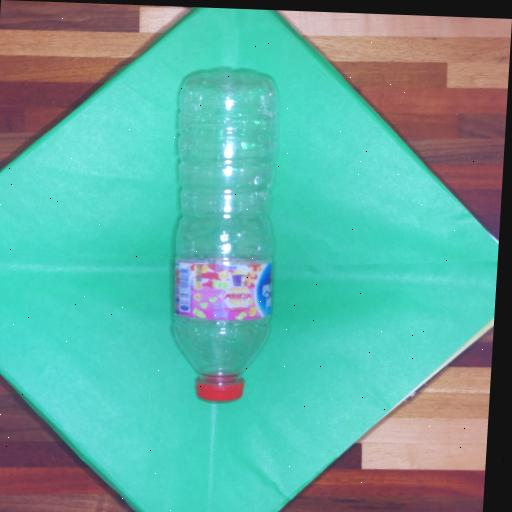bottle: (154, 65, 288, 403)
